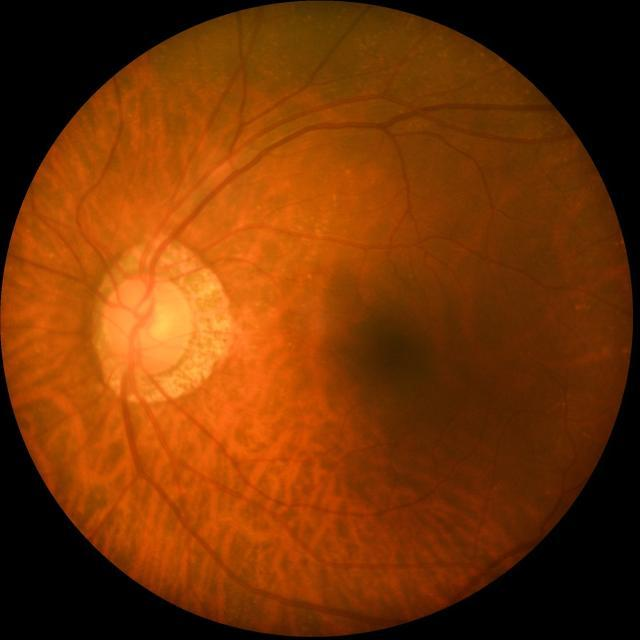OC: (129, 301, 170, 347)
OD: (98, 272, 192, 376)
